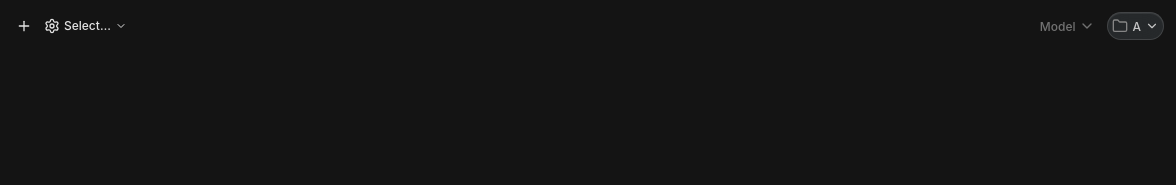
Test: keeps configuration choices on the same surface and project selection outside Add
Step 1. Click the button named "Composer options" → x=24, y=26, box [12,12,36,40]
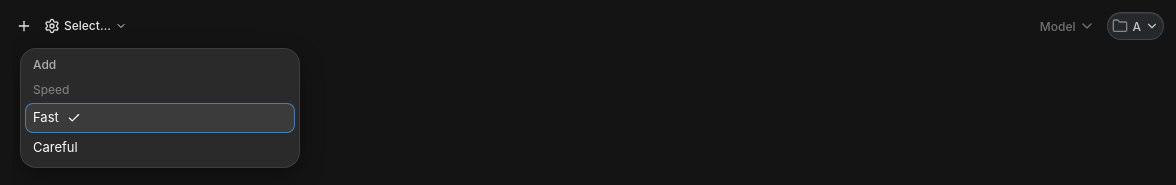
Check: the menu named "Composer options menu" is shown, box [20,48,300,168]
Step 2. Click the menu item "Careful" → x=55, y=147, box [25,133,295,163]
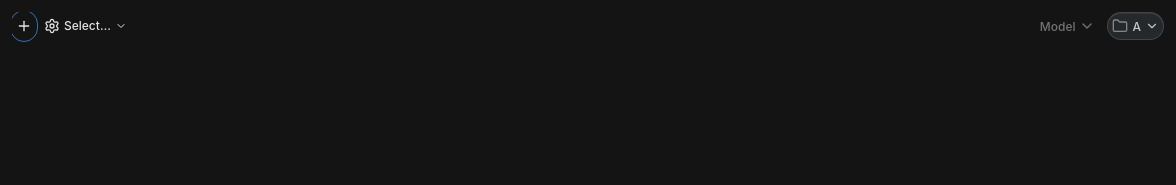
Check: the menu is gone
Step 3. Click the button named "Project: A" → x=1136, y=26, box [1108,12,1164,40]
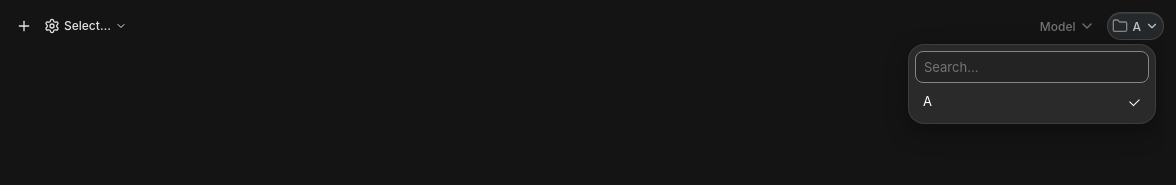
Check: the number of lists is 1, box [915,87,1149,117]
Step 4. Click the button named "Composer options" → x=24, y=26, box [12,12,36,40]
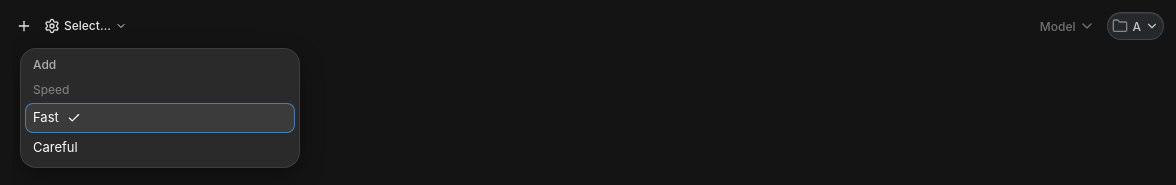
Check: the list is gone
